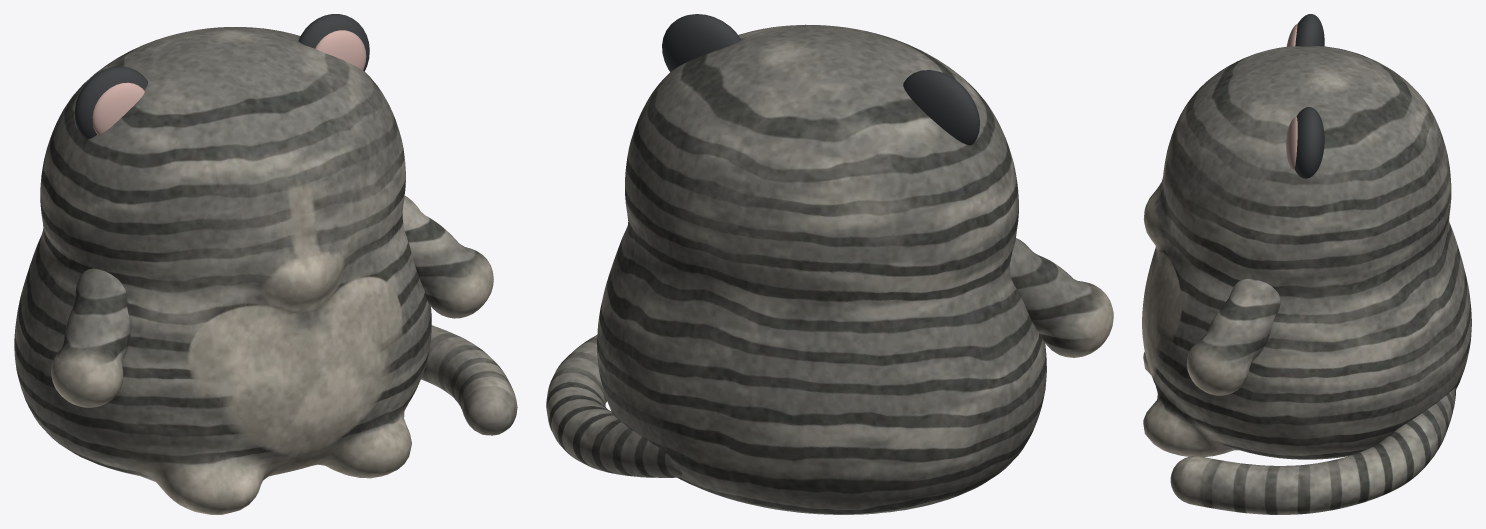
The model's file is cat.glb.
The picture shows the model from 3 angles, left to right: view 1: azimuth 30°, elevation 25°; view 2: azimuth 150°, elevation 25°; view 3: azimuth 270°, elevation 25°; orthographic projection. The views are drawn at different scales.
Visible parts, largest first — view 1: CatBody, ArmL, ArmR, Tail, EarL, EarR; view 2: CatBody, Tail, ArmL, EarL, EarR; view 3: CatBody, Tail, ArmR, EarR, EarL.
Boxes of the visible parts, x1,y1,x2,y2 form: CatBody: (14, 27, 431, 514); ArmL: (51, 268, 130, 407); ArmR: (402, 196, 493, 318); Tail: (421, 325, 517, 435); EarL: (74, 66, 147, 139); EarR: (298, 14, 369, 71); CatBody: (597, 24, 1046, 514); Tail: (546, 335, 681, 477); ArmL: (1009, 238, 1113, 357); EarL: (903, 70, 979, 145); EarR: (662, 14, 740, 71); CatBody: (1142, 46, 1471, 459); Tail: (1170, 387, 1456, 514); ArmR: (1186, 278, 1280, 395); EarR: (1286, 107, 1324, 178); EarL: (1286, 14, 1324, 46).
Size of the model in its own units: 2.46 by 2.02 by 1.7.
6 materials, 4 textured.
